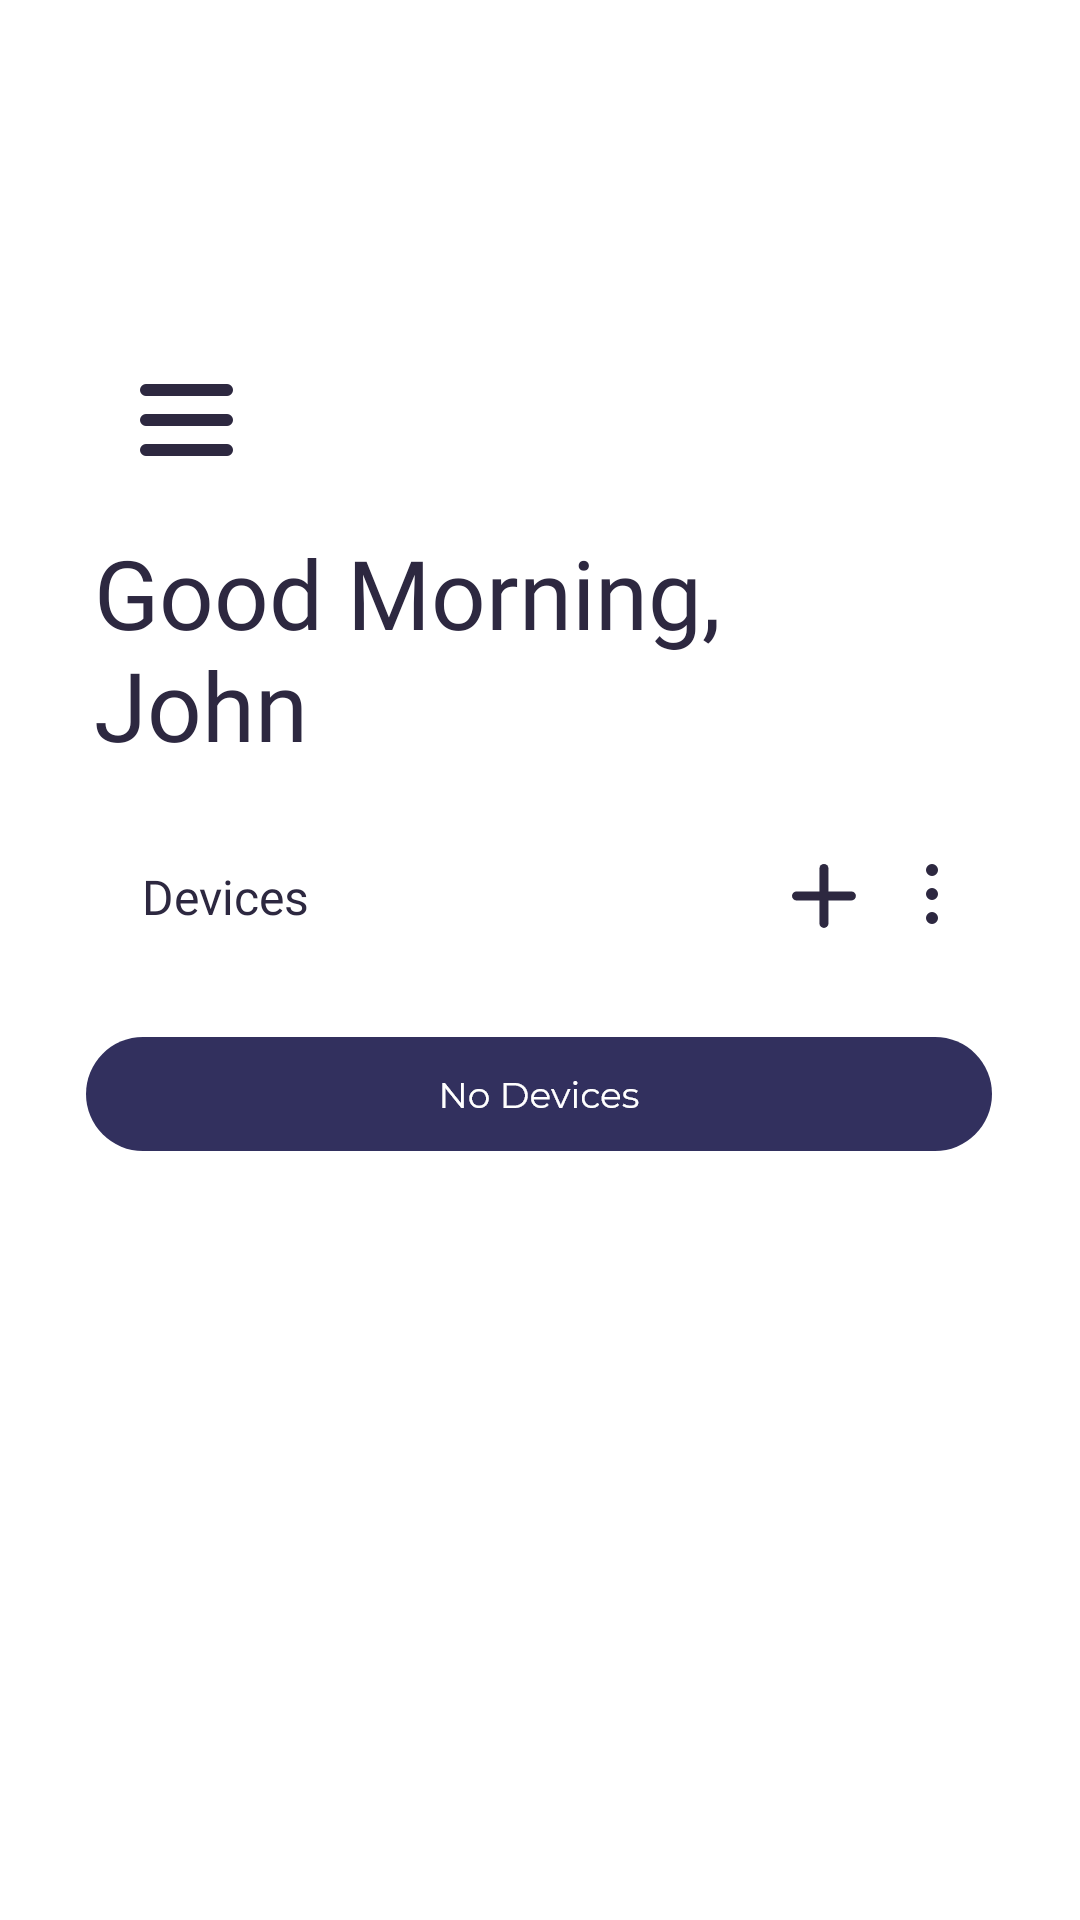

Named icons in this screenshot (1080*1920) and their centers, (x=x, y=y):
menu: (x=186, y=420)
